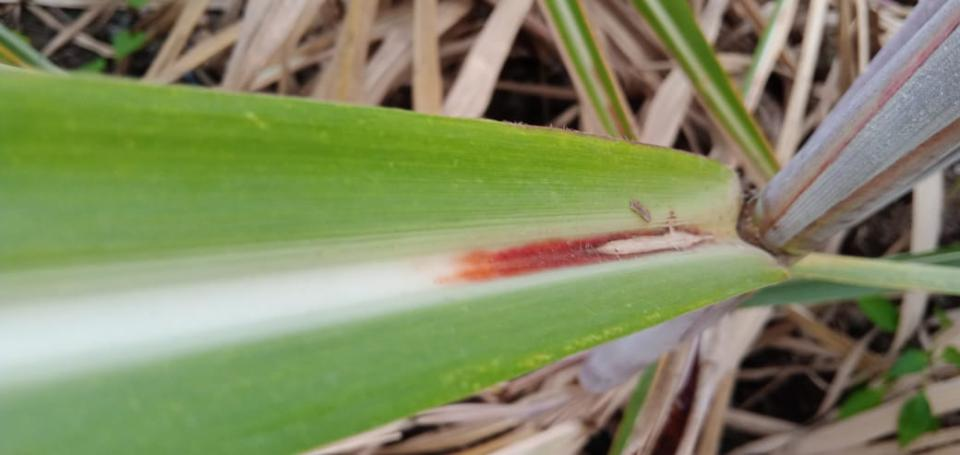RedRot: (433, 211, 719, 284)
